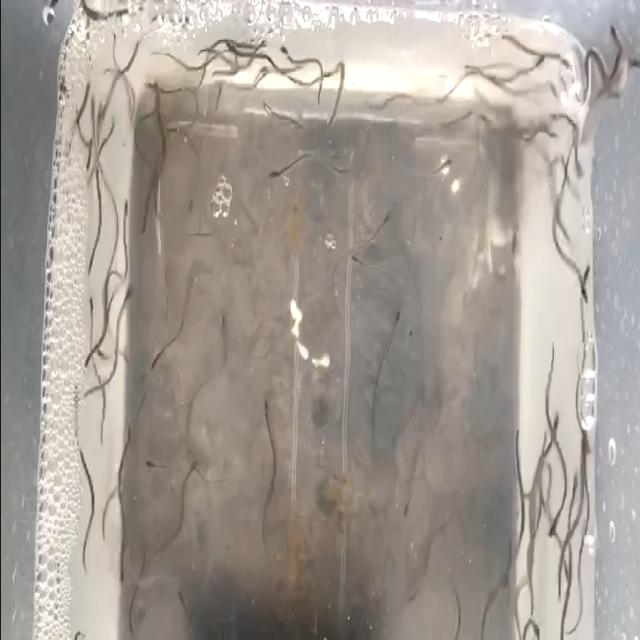inactive_glass_eel: (434, 126, 458, 180), (349, 238, 372, 277), (119, 280, 139, 324), (264, 158, 286, 194), (402, 576, 418, 624), (81, 286, 98, 331), (576, 252, 593, 292), (273, 36, 293, 70), (397, 489, 411, 537), (574, 280, 590, 320), (256, 399, 276, 431), (146, 337, 162, 377), (545, 412, 563, 446), (388, 300, 406, 334), (542, 505, 558, 543), (604, 15, 620, 51), (118, 185, 136, 217), (78, 84, 93, 122), (378, 202, 393, 239), (145, 454, 164, 480), (564, 478, 580, 508), (172, 588, 190, 614), (215, 310, 229, 340), (118, 545, 128, 582), (150, 81, 159, 98)
